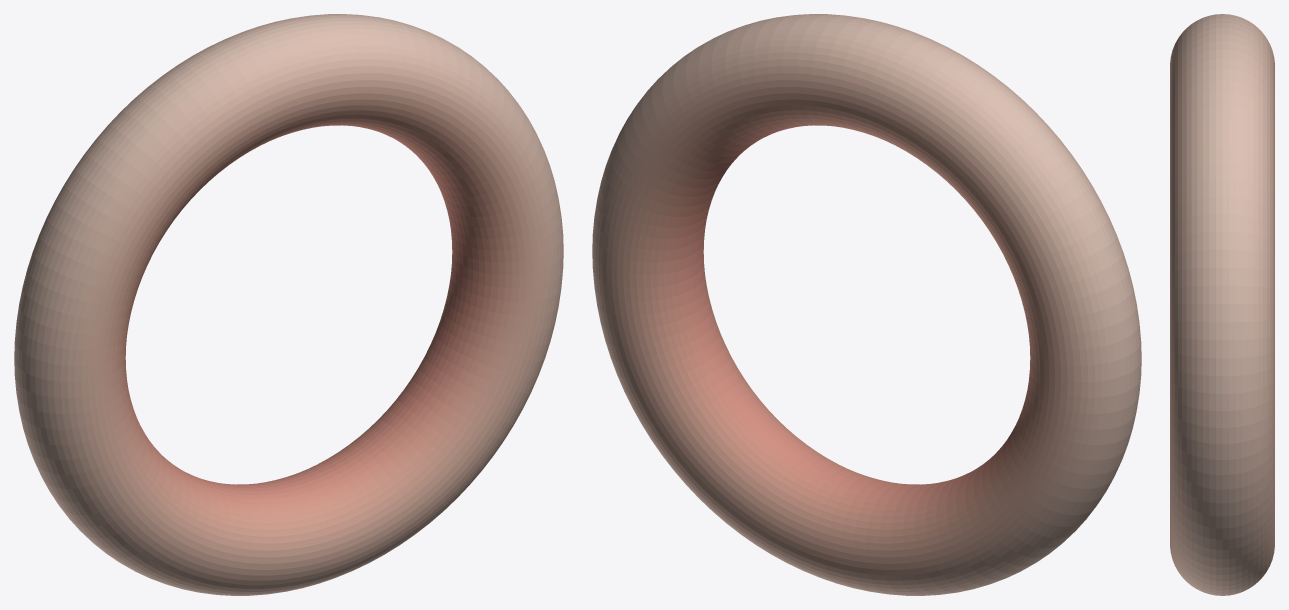
3 renders of one model, left to right at view 1: azimuth 30°, elevation 25°; view 2: azimuth 150°, elevation 25°; view 3: azimuth 270°, elevation 25°, orthographic. The views are drawn at different scales.
Visible parts, largest first — view 1: world; view 2: world; view 3: world.
Part boxes in pixels (x1=…): world: x1=14, y1=14, x2=563, y2=595; world: x1=592, y1=14, x2=1141, y2=595; world: x1=1170, y1=14, x2=1274, y2=595.
Bounding box in the file's own units: 31.73 × 31.73 × 5.72.
